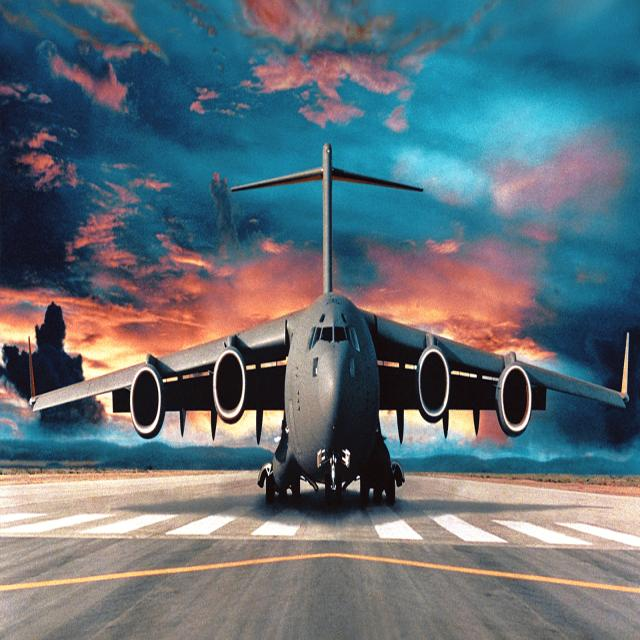F117: (5, 107, 640, 529)
